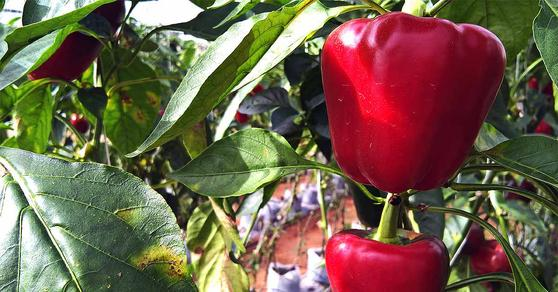pepper: (319, 13, 505, 198)
